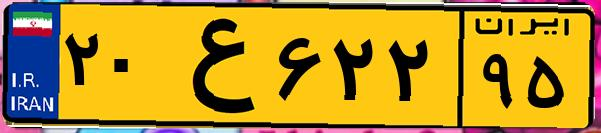0: (110, 28, 158, 98)
2: (385, 28, 445, 110), (330, 28, 385, 110), (57, 26, 110, 100)
5: (525, 38, 570, 115)
6: (270, 28, 330, 110)
9: (475, 38, 525, 113)
ع: (158, 12, 270, 120)
